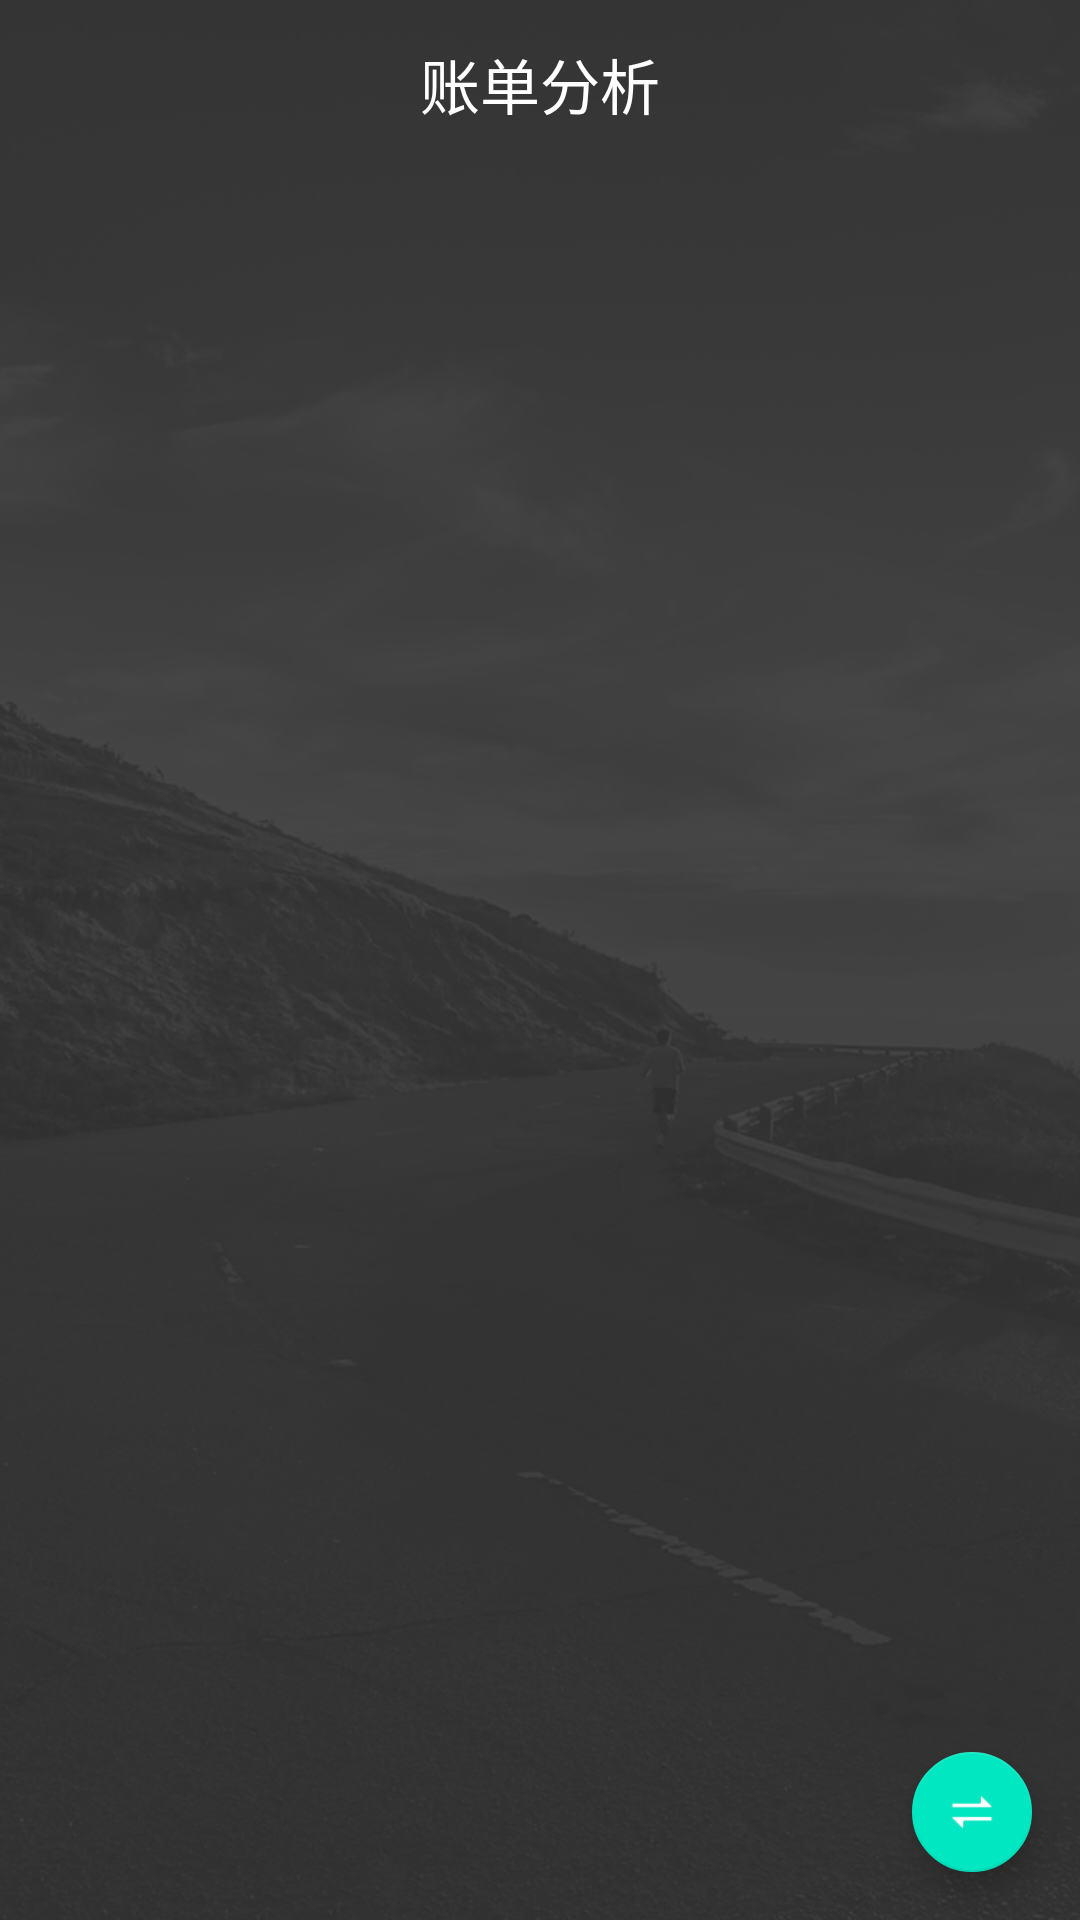

Icon click points for this 1080px x 1920px phone screenshot, format (x=x, y=y):
toggle: (x=972, y=1812)
